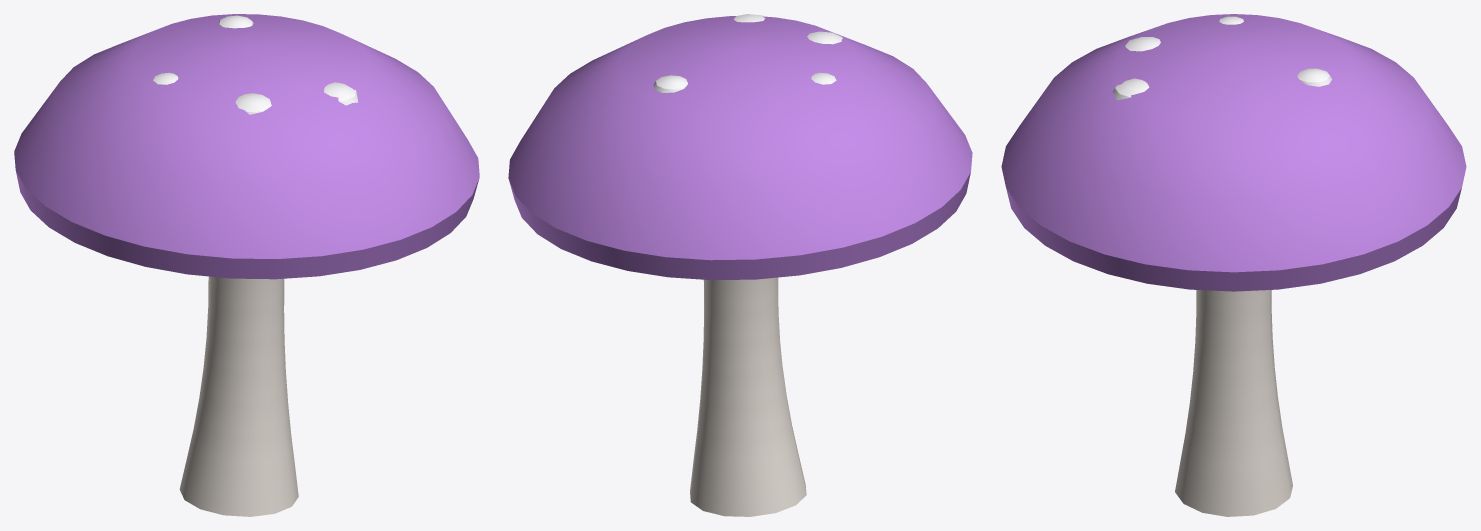
File: GiantMushroom_C.fbx
The picture shows the model from 3 angles, left to right: view 1: azimuth 30°, elevation 25°; view 2: azimuth 150°, elevation 25°; view 3: azimuth 270°, elevation 25°; orthographic projection.
Parts seen in each view (by area): view 1: GiantMushroom_C; view 2: GiantMushroom_C; view 3: GiantMushroom_C.
Boxes of the visible parts, box(x1,y1,x2,y2) form: GiantMushroom_C: box(14, 14, 479, 516); GiantMushroom_C: box(508, 14, 972, 516); GiantMushroom_C: box(1001, 14, 1466, 516).
Size of the model in its own units: 8.59 by 9.06 by 8.6.
